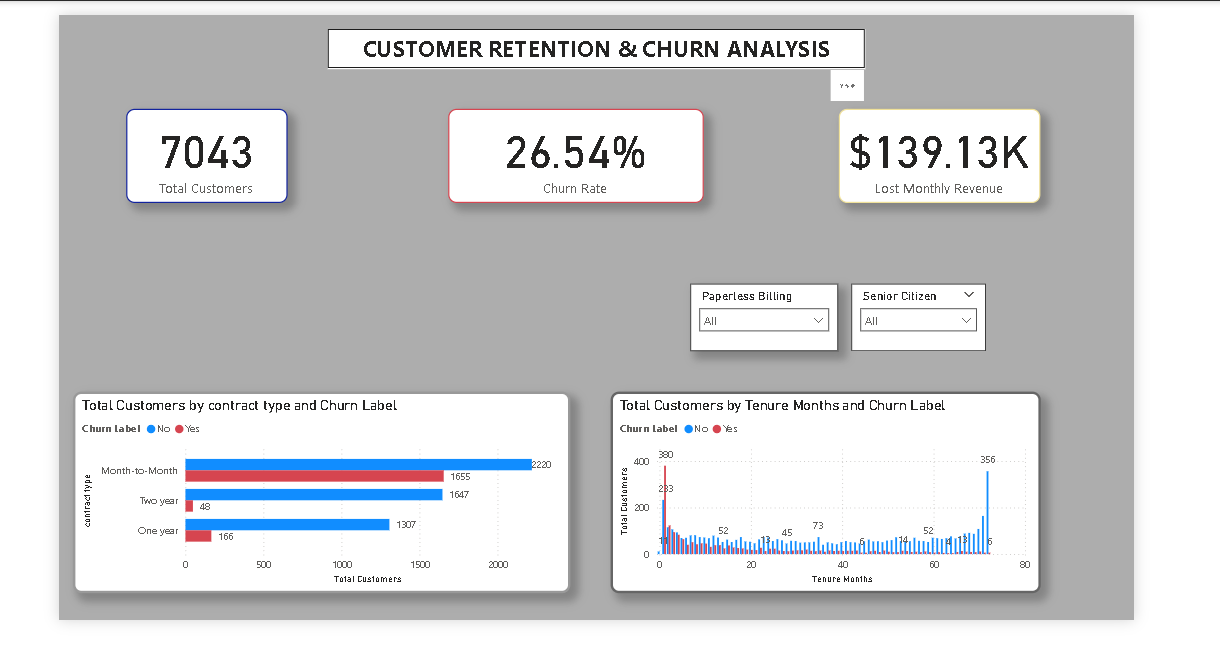

The page's visual inventory and layout, read from the dashboard file:
{"tool":"powerbi","page":{"name":"Churn Overview","canvas":[1280,720],"ordinal":0},"visuals":[{"type":"card","fields":{"Values":["telco_churn_model_ready.Total Customers"]},"box":[80,112,192,112],"z":1000},{"type":"card","fields":{"Values":["telco_churn_model_ready.Churn Rate"]},"box":[464,112,304,112],"z":2000},{"type":"card","fields":{"Values":["telco_churn_model_ready.Lost Monthly Revenue"]},"box":[928,112,240,112],"z":3000},{"type":"clusteredBarChart","fields":{"Category":["telco_churn_model_ready.contract type"],"Y":["telco_churn_model_ready.Total Customers"],"Series":["telco_churn_model_ready.Churn Label"]},"box":[16,448,592,240],"z":4000},{"type":"clusteredColumnChart","fields":{"Category":["telco_churn_model_ready.Tenure Months"],"Y":["telco_churn_model_ready.Total Customers"],"Series":["telco_churn_model_ready.Churn Label"]},"box":[656,448,512,240],"z":5000},{"type":"slicer","fields":{"Values":["telco_churn_model_ready.Senior Citizen"]},"box":[944,320,160,80],"z":6000},{"type":"slicer","fields":{"Values":["telco_churn_model_ready.Paperless Billing"]},"box":[752,320,176,80],"z":7000},{"type":"textbox","box":[320,16,640,48],"z":8000}]}

Visuals, with their boxes on the page's 1280x720 design canvas (x1, y1, x2, y2). These are canvas units, not pixel positions in the 1220x657 screenshot, which may show the page scaled, cropped or inside an application window:
card - telco_churn_model_ready.Total Customers: x1=80, y1=112, x2=272, y2=224
card - telco_churn_model_ready.Churn Rate: x1=464, y1=112, x2=768, y2=224
card - telco_churn_model_ready.Lost Monthly Revenue: x1=928, y1=112, x2=1168, y2=224
clusteredBarChart - telco_churn_model_ready.contract type x telco_churn_model_ready.Total Customers: x1=16, y1=448, x2=608, y2=688
clusteredColumnChart - telco_churn_model_ready.Tenure Months x telco_churn_model_ready.Total Customers: x1=656, y1=448, x2=1168, y2=688
slicer - telco_churn_model_ready.Senior Citizen: x1=944, y1=320, x2=1104, y2=400
slicer - telco_churn_model_ready.Paperless Billing: x1=752, y1=320, x2=928, y2=400
textbox: x1=320, y1=16, x2=960, y2=64
